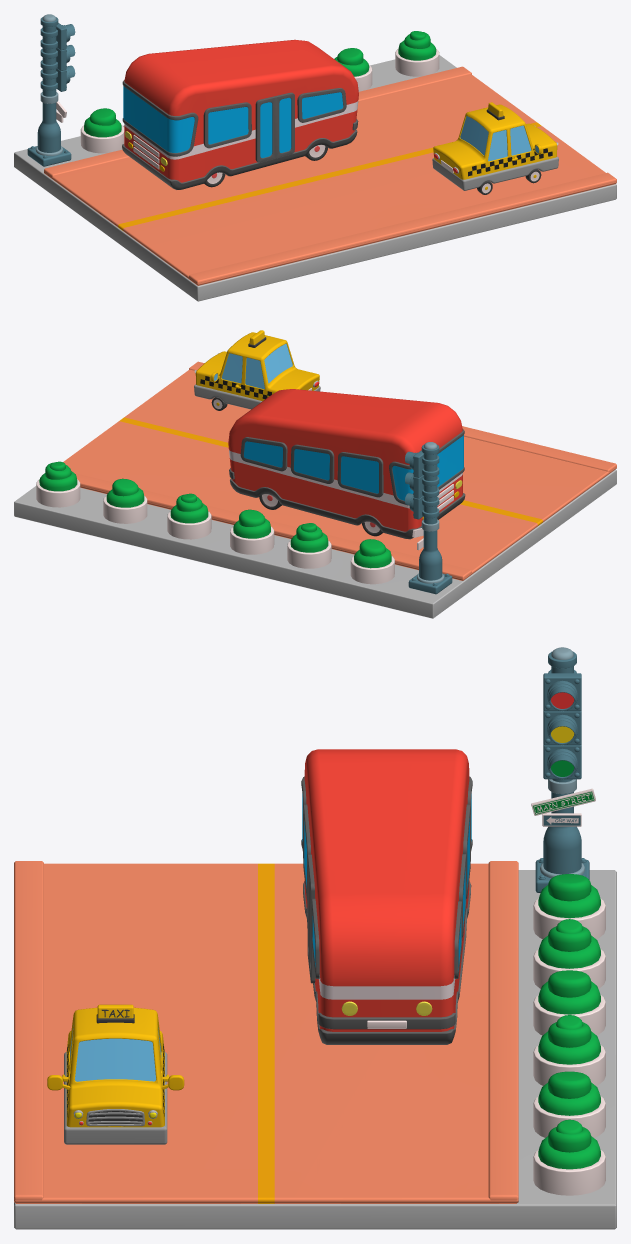
The model's file is City_Island_7.glb.
The picture shows the model from 3 angles, top to bottom: view 1: azimuth 30°, elevation 25°; view 2: azimuth 150°, elevation 25°; view 3: azimuth 270°, elevation 25°; orthographic projection. The views are drawn at different scales.
Visible parts, largest first — view 1: City_7_Roadway_1, City_7_Bus_1, City_7_Base_1, City_7_Taxi_1, City_7_Traffic_Light_1, City_7_Bush_5, City_7_Bush_2, City_7_Bush_6; view 2: City_7_Roadway_1, City_7_Bus_1, City_7_Base_1, City_7_Taxi_1, City_7_Traffic_Light_1, City_7_Bush_1, City_7_Bush_3, City_7_Bush_5, City_7_Bush_6, City_7_Bush_2, City_7_Bush_4; view 3: City_7_Roadway_1, City_7_Bus_1, City_7_Base_1, City_7_Taxi_1, City_7_Traffic_Light_1, City_7_Bush_5, City_7_Bush_3, City_7_Bush_6, City_7_Bush_2, City_7_Bush_4, City_7_Bush_1, City_7_Sign_2.
Part boxes in pixels (x1,y1,x2,y2): City_7_Roadway_1: (44,66,616,285); City_7_Bus_1: (122,39,358,189); City_7_Base_1: (14,55,616,301); City_7_Taxi_1: (432,102,558,194); City_7_Traffic_Light_1: (27,14,75,166); City_7_Bush_5: (395,31,439,76); City_7_Bush_2: (80,108,124,153); City_7_Bush_6: (334,48,372,91); City_7_Roadway_1: (63,361,616,580); City_7_Bus_1: (228,389,465,539); City_7_Base_1: (14,469,616,618); City_7_Taxi_1: (194,330,320,410); City_7_Traffic_Light_1: (405,442,452,594); City_7_Bush_1: (287,523,331,568); City_7_Bush_3: (167,493,211,539); City_7_Bush_5: (36,461,80,507); City_7_Bush_6: (103,478,147,523); City_7_Bush_2: (350,539,394,584); City_7_Bush_4: (230,509,274,554); City_7_Roadway_1: (14,861,518,1203); City_7_Bus_1: (301,749,472,1044); City_7_Base_1: (14,870,616,1229); City_7_Taxi_1: (47,1004,184,1144); City_7_Traffic_Light_1: (535,647,589,892); City_7_Bush_5: (533,1119,605,1195); City_7_Bush_3: (533,1015,605,1085); City_7_Bush_6: (533,1071,605,1137); City_7_Bush_2: (533,874,605,939); City_7_Bush_4: (533,970,605,1035); City_7_Bush_1: (533,919,605,988); City_7_Sign_2: (531,788,595,815).
Size of the model in its own units: 17.62 by 6.37 by 13.38.
Materials: 13 (13 with a texture image).
